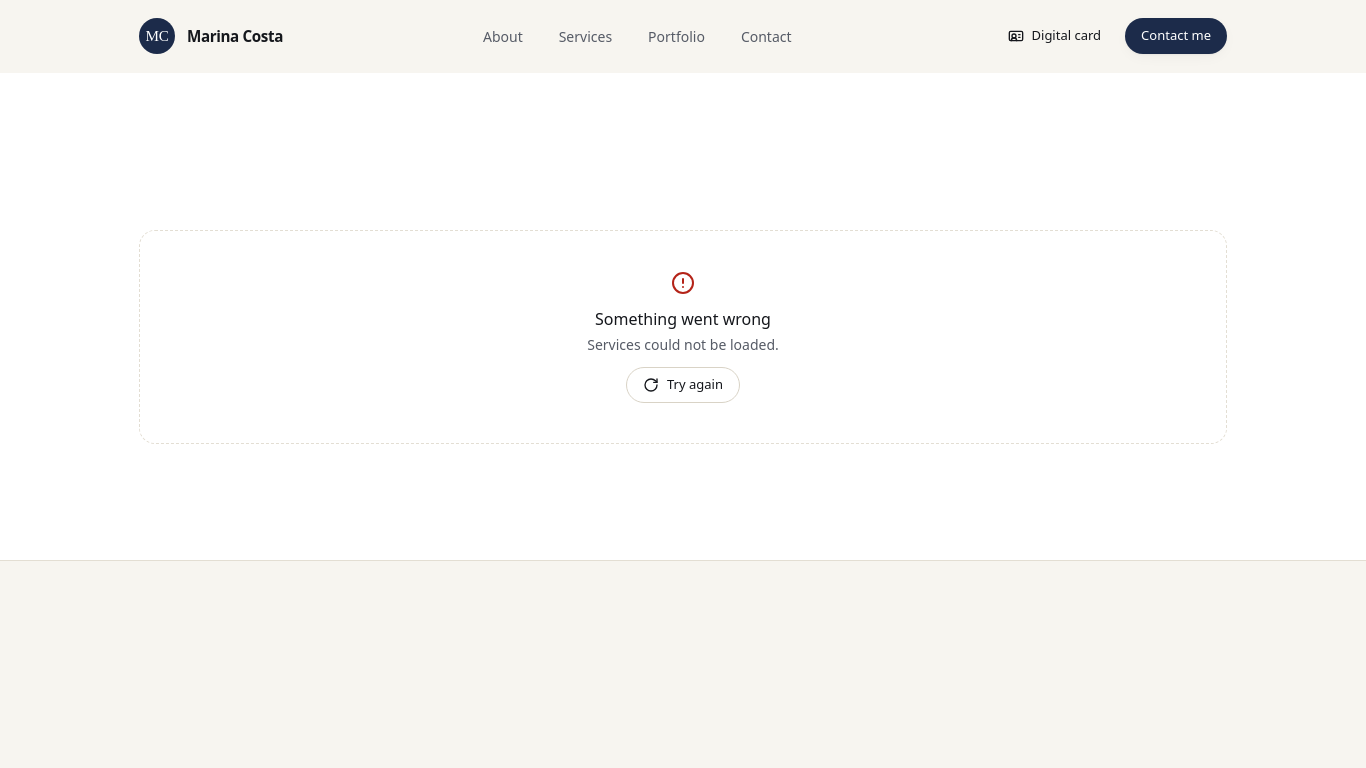
navigation and routing › shows an error with retry when content fails to load
This screenshot has width=1366, height=768.
(page scrolled)
What coordinates should you click on to do the following:
click the button "Try again"
I would click on:
 (683, 385)
Its box is [626,367,740,403].
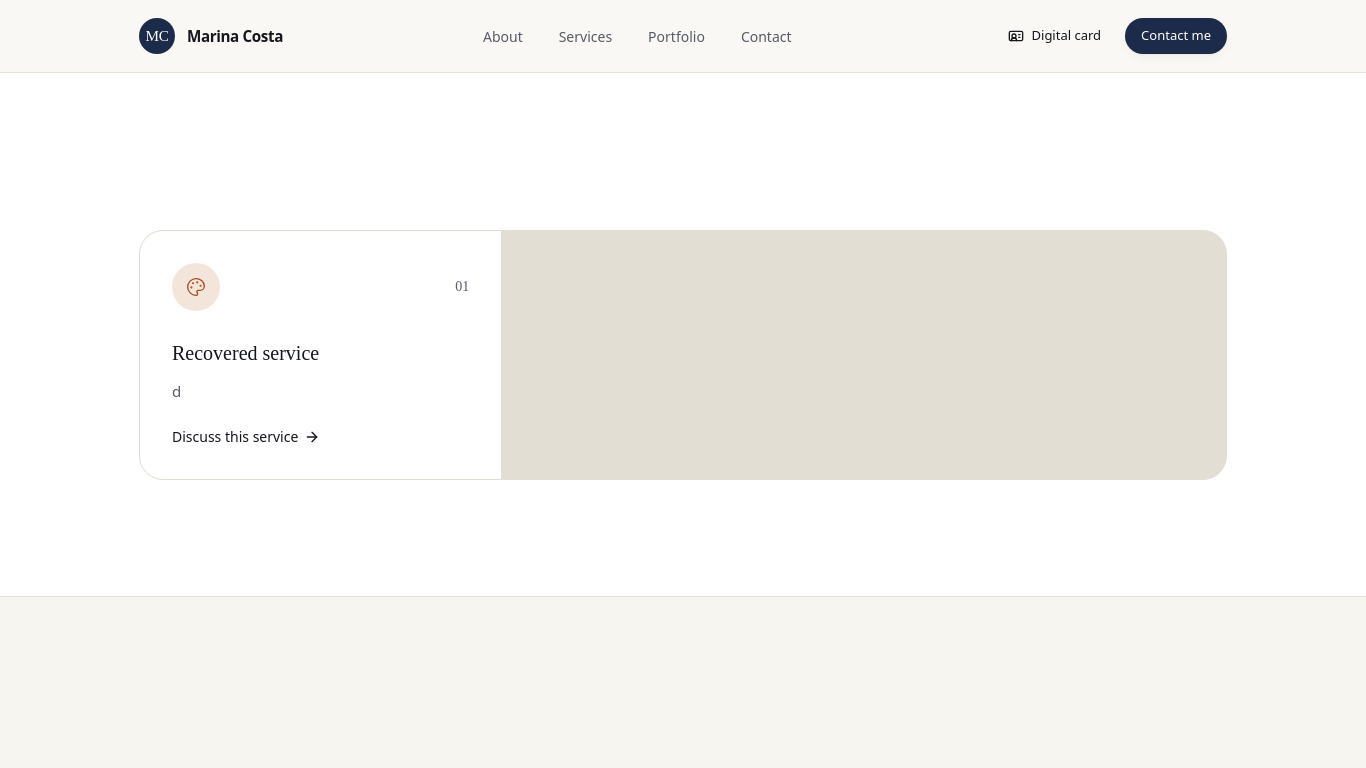
Expected: the heading "Recovered service" is shown, [172,342,319,364]
